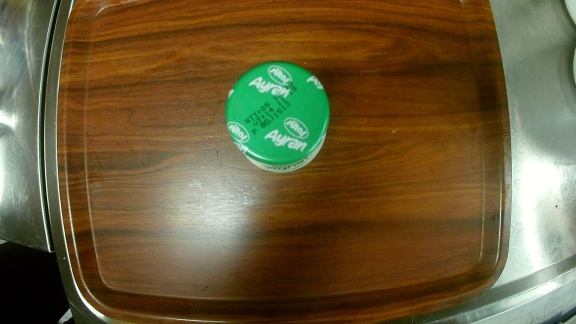ayran: (221, 60, 342, 179)
